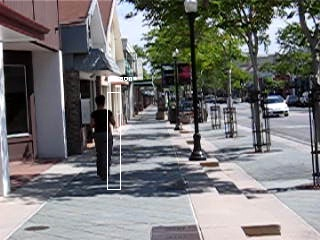person: (89, 96, 116, 182), (88, 96, 115, 182), (90, 96, 117, 182), (89, 95, 116, 181), (89, 97, 116, 183)
target_negative: (159, 82, 186, 197), (203, 170, 239, 237), (172, 217, 254, 220), (317, 45, 318, 229)
